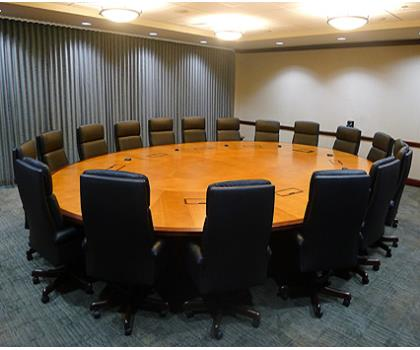conference_table: (45, 141, 386, 235)
